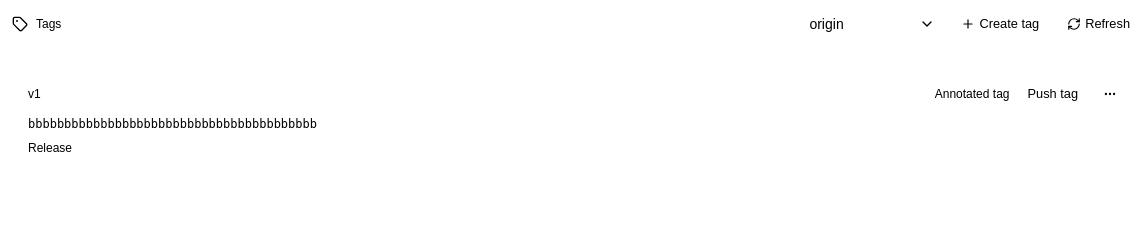
Test: does not open a push confirmation when a different remote tag already exists
The width and height of the screenshot is (1147, 229).
Click the button "Push tag" at (1053,94), box [1018,80,1088,108]
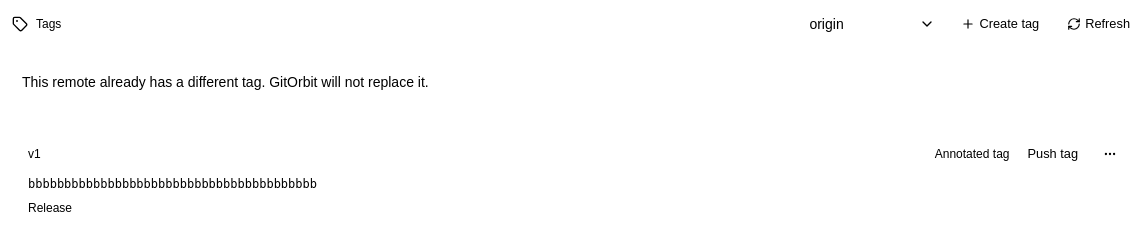
Now the message shows "will not replace", box [22,74,429,90]
